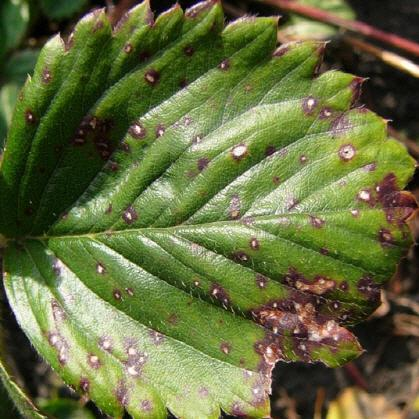Leaf Spot: (0, 0, 418, 418)
